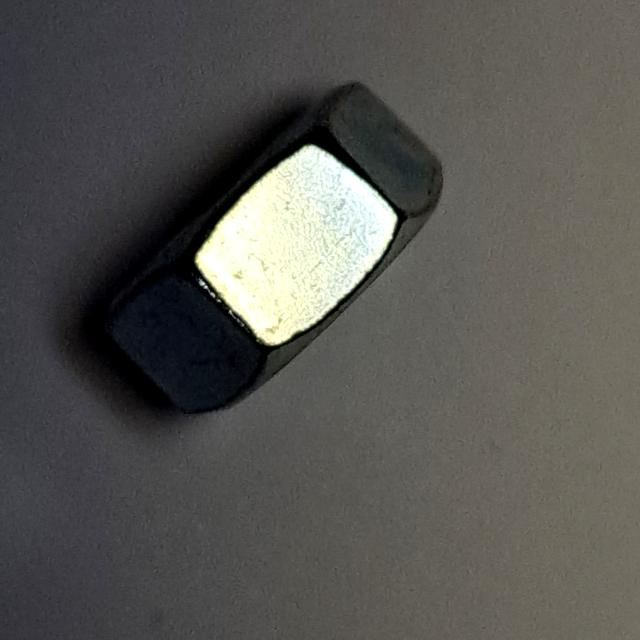Side_Excellent: (70, 66, 454, 428)
